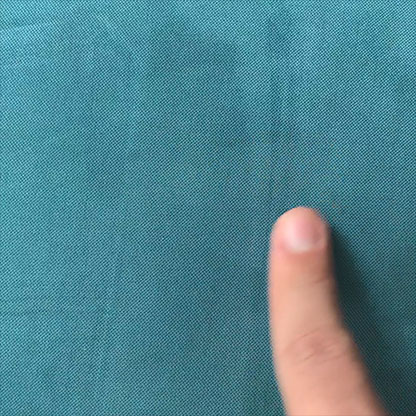fingertip: (259, 189, 347, 266)
